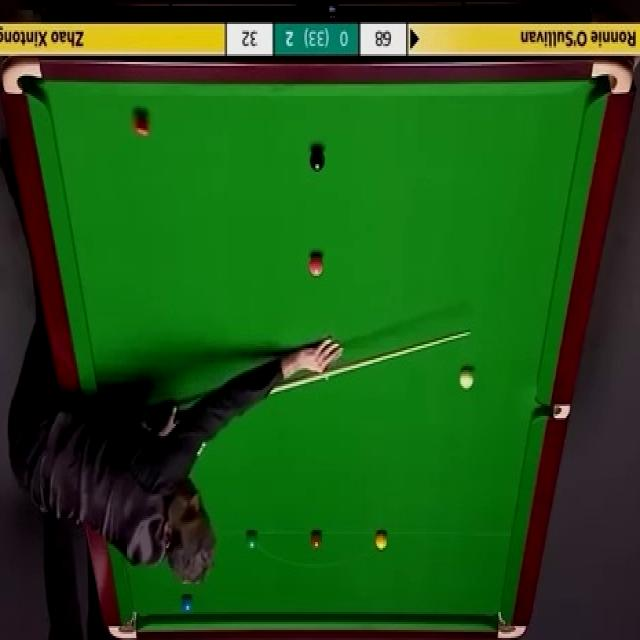pocket: (0, 57, 44, 100), (591, 57, 633, 97), (495, 609, 528, 640), (106, 610, 140, 638), (536, 406, 572, 420)
